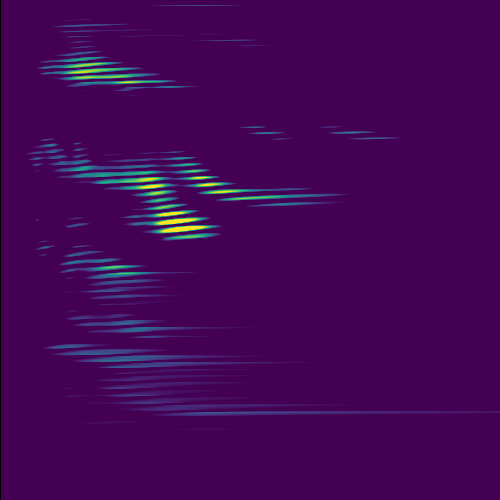semblance: (45, 48, 172, 97), (138, 198, 227, 249), (123, 172, 187, 207)
